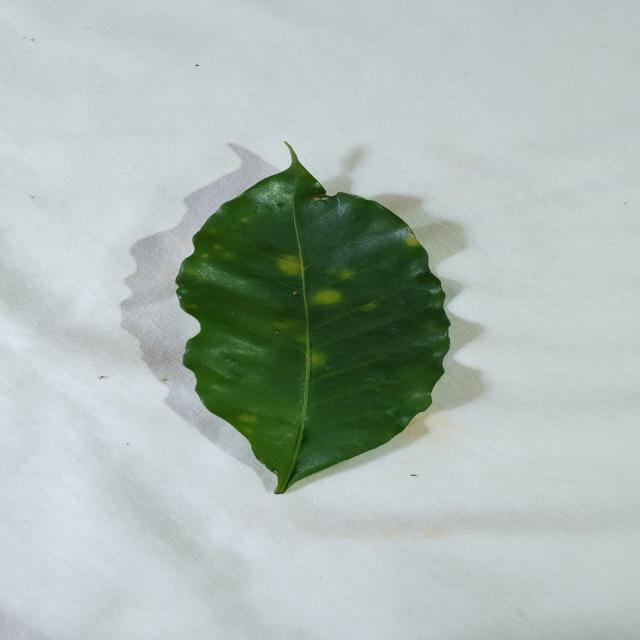Enfermedad-Roya: (174, 149, 453, 496)
